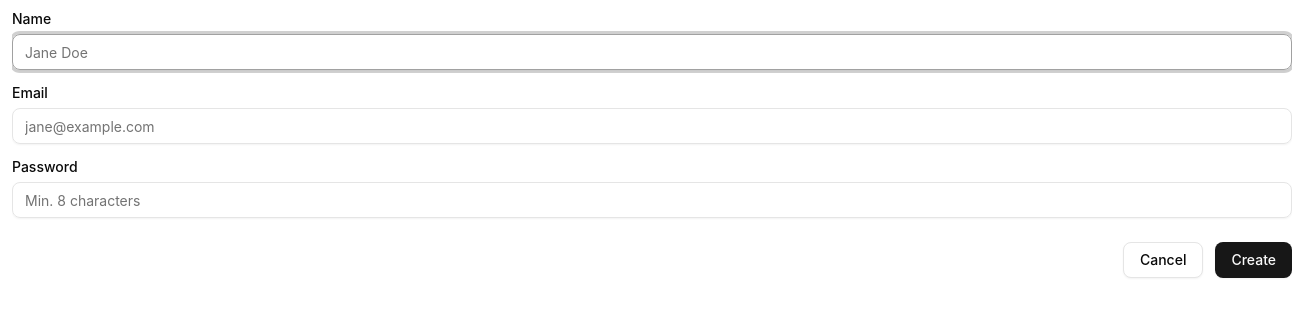
Scenario: UserForm › validation › shows an error and does not POST when name is fewer than 3 characters
The image size is (1304, 323).
Type "AB" into the field labelled "Name" at (652, 52), box [12,34,1292,70]
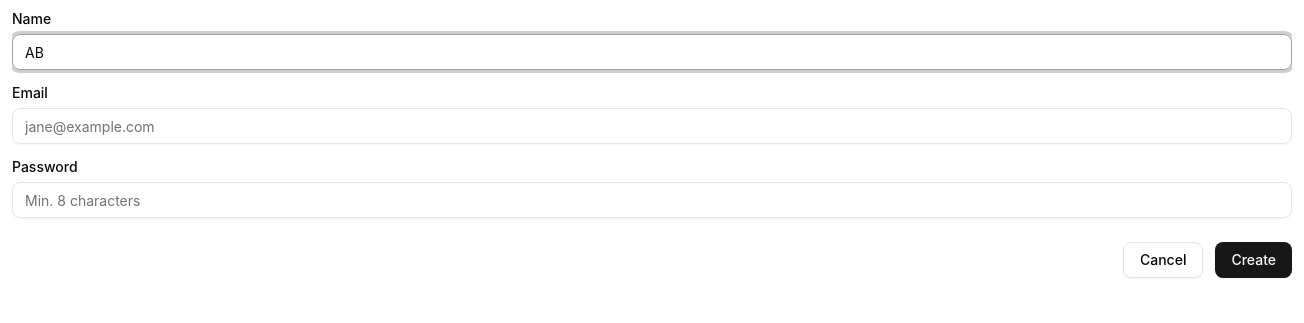
Type "new@example.com" into the field labelled "Email" at (652, 126), box [12,108,1292,144]
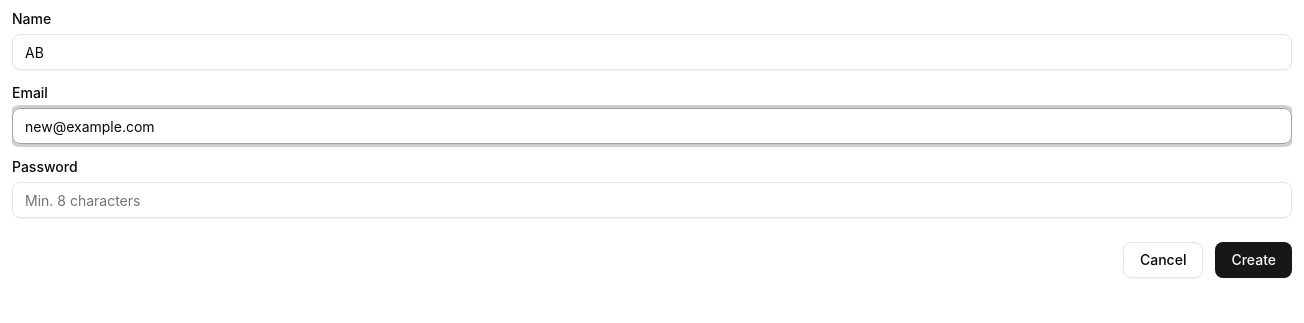
Type "password123" into the password field labelled "Password" at (652, 200), box [12,182,1292,218]
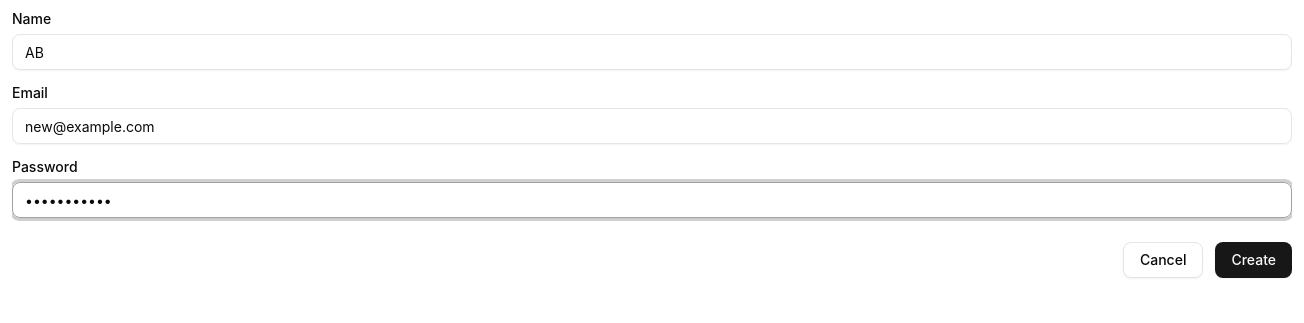
Click the button "Create" at (1254, 260), box [1215,242,1292,278]
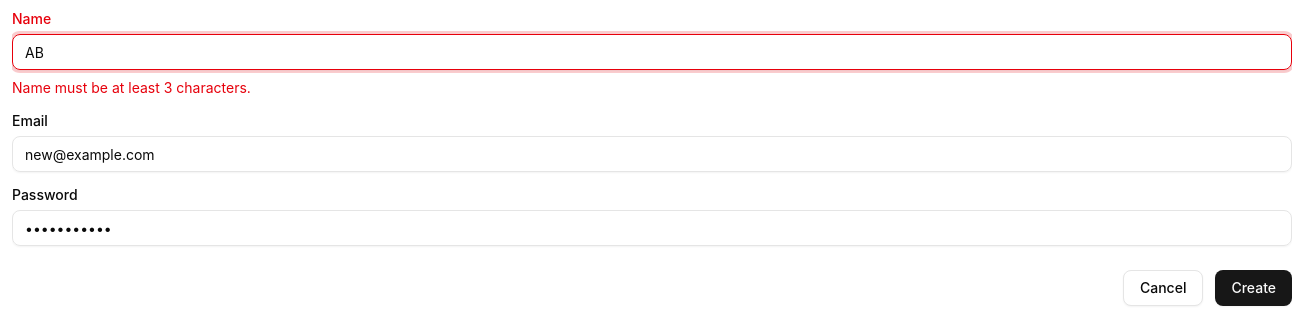
Now the text "Name must be at least 3 characters." is shown, box [12,79,251,96]
